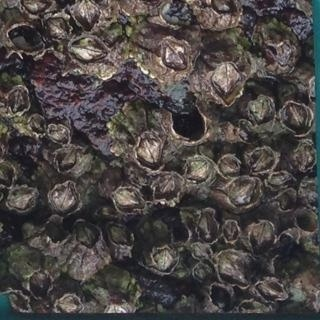Barnacle: (210, 60, 240, 100), (217, 250, 249, 287), (227, 175, 259, 207), (48, 180, 77, 214), (72, 34, 105, 63), (161, 40, 189, 72), (136, 135, 163, 168), (195, 208, 218, 244), (249, 93, 274, 125), (250, 221, 274, 253), (73, 0, 99, 28), (293, 141, 317, 171), (6, 187, 36, 211), (282, 104, 306, 133), (114, 185, 143, 209), (44, 16, 71, 41), (29, 269, 50, 300), (186, 155, 210, 182), (7, 87, 29, 115), (106, 223, 131, 247), (151, 247, 173, 274), (248, 149, 272, 173), (154, 175, 178, 199), (56, 147, 78, 173), (76, 224, 98, 249), (257, 280, 284, 300), (276, 189, 297, 212), (56, 297, 77, 319), (0, 158, 15, 187), (267, 170, 294, 186), (298, 180, 318, 201), (46, 126, 68, 145), (217, 157, 240, 175), (223, 222, 239, 245), (23, 0, 49, 14), (27, 115, 43, 136), (211, 0, 236, 13), (193, 265, 210, 282), (191, 244, 210, 259)
